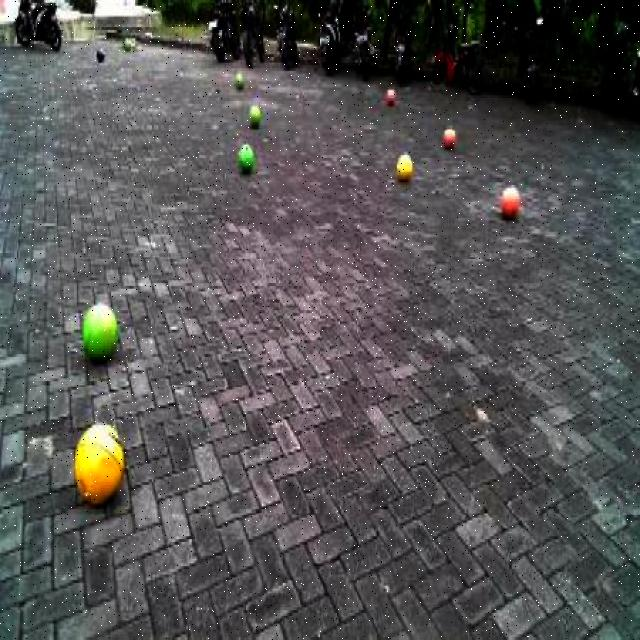buoy: (73, 412, 128, 510), (78, 292, 123, 369), (497, 180, 524, 225), (236, 140, 256, 179), (394, 147, 415, 183), (439, 122, 457, 150), (246, 101, 262, 128)
